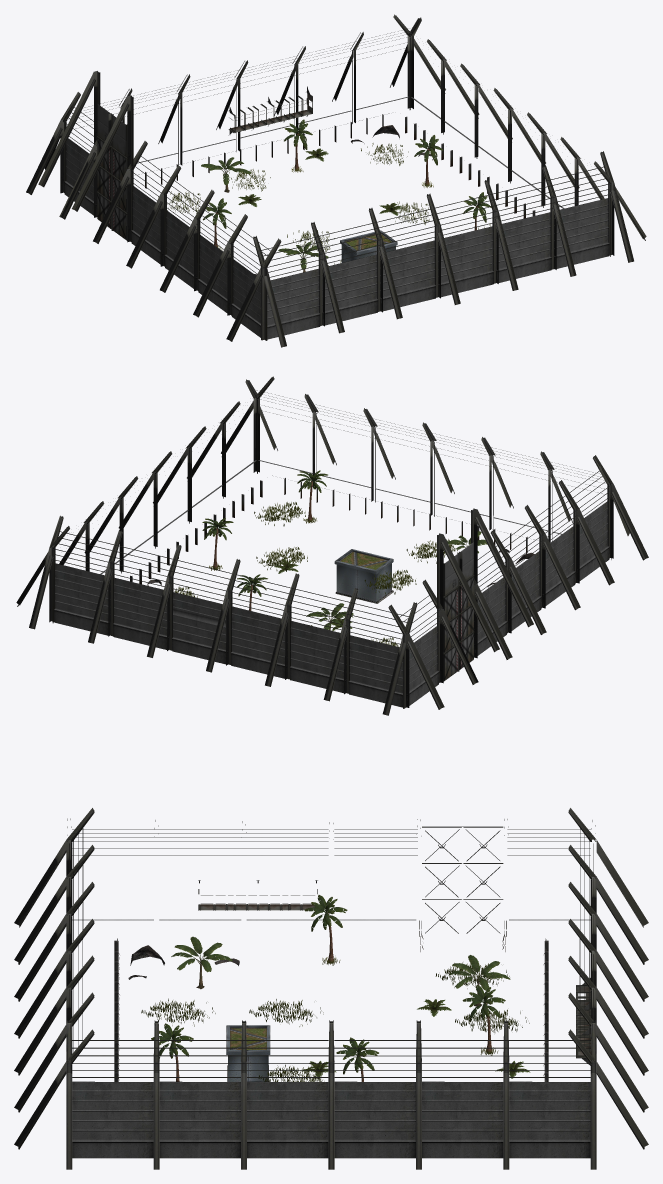
3 renders of one model, top to bottom at view 1: azimuth 30°, elevation 25°; view 2: azimuth 150°, elevation 25°; view 3: azimuth 270°, elevation 25°, orthographic. The views are drawn at different scales.
Parts seen in each view (by area): view 1: Mesh_0031_rip1, Mesh_0048_rip, Raised_Platform; view 2: Mesh_0031_rip1, Mesh_0048_rip, Raised_Platform; view 3: Mesh_0031_rip1, Mesh_0048_rip, Raised_Platform.
Part boxes in pixels (bbox=[...]): Mesh_0031_rip1: bbox=[26, 14, 646, 347]; Mesh_0048_rip: bbox=[158, 119, 491, 272]; Raised_Platform: bbox=[340, 230, 397, 262]; Mesh_0031_rip1: bbox=[16, 376, 648, 715]; Mesh_0048_rip: bbox=[174, 470, 487, 646]; Raised_Platform: bbox=[334, 549, 393, 603]; Mesh_0031_rip1: bbox=[14, 808, 648, 1169]; Mesh_0048_rip: bbox=[141, 895, 530, 1081]; Raised_Platform: bbox=[226, 1025, 270, 1081].
Size of the model in its own units: 82.58 by 30.47 by 78.13.
Materials: 3 (3 with a texture image).
